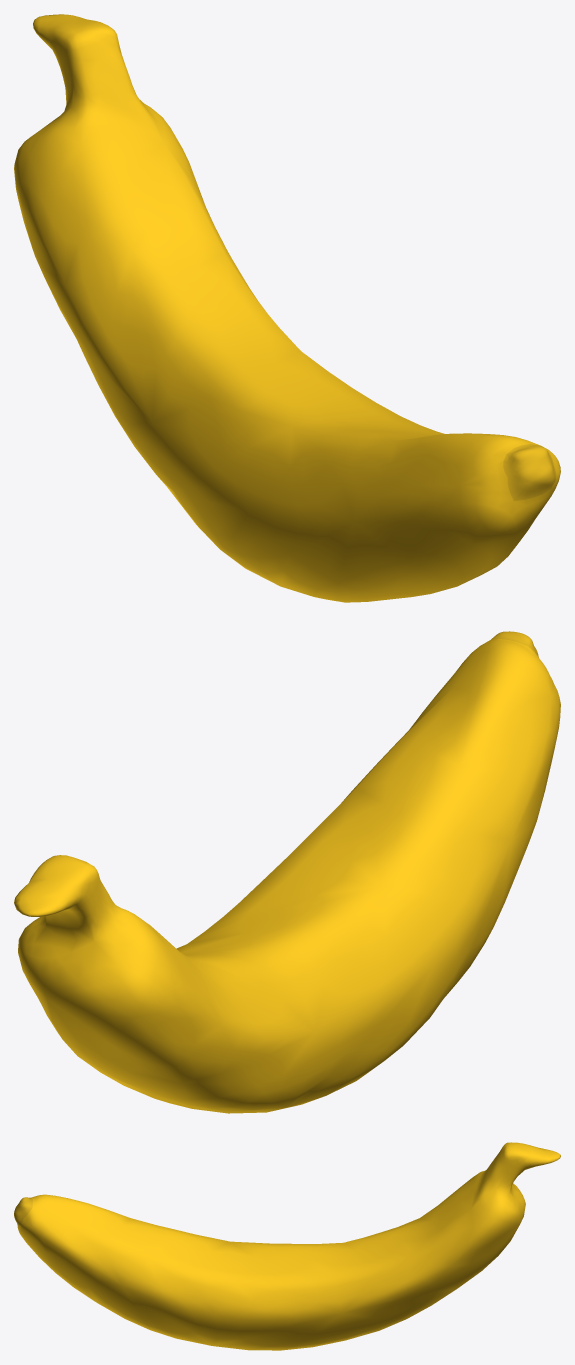
File: banana.fbx
3 views of the same model, one above another, from view 1: azimuth 30°, elevation 25°; view 2: azimuth 150°, elevation 25°; view 3: azimuth 270°, elevation 25° (orthographic). The views are drawn at different scales.
Parts seen in each view (by area): view 1: Cube; view 2: Cube; view 3: Cube.
Boxes of the visible parts, bbox=[...] form: Cube: bbox=[14, 14, 560, 602]; Cube: bbox=[14, 631, 560, 1113]; Cube: bbox=[14, 1142, 560, 1350].
Size of the model in its own units: 5.69 by 10.87 by 26.9.
